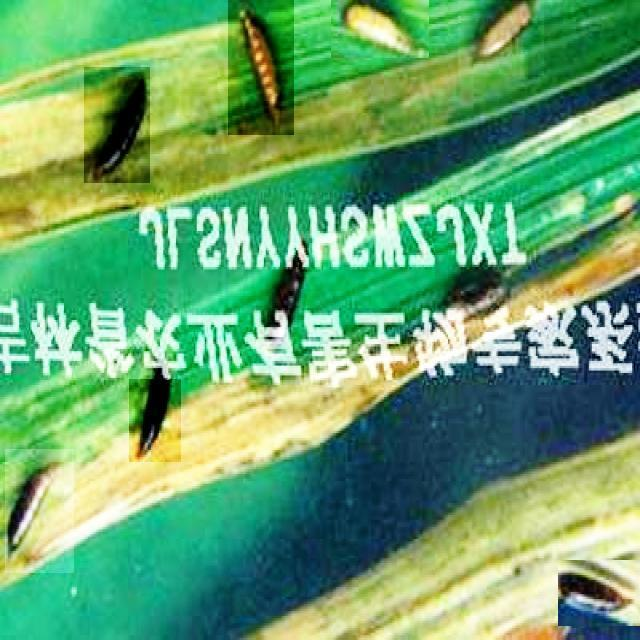whorl-maggot: (228, 0, 294, 135), (5, 449, 74, 573), (84, 67, 150, 183), (458, 2, 544, 76), (331, 0, 429, 58), (558, 560, 640, 626), (130, 379, 182, 462)
